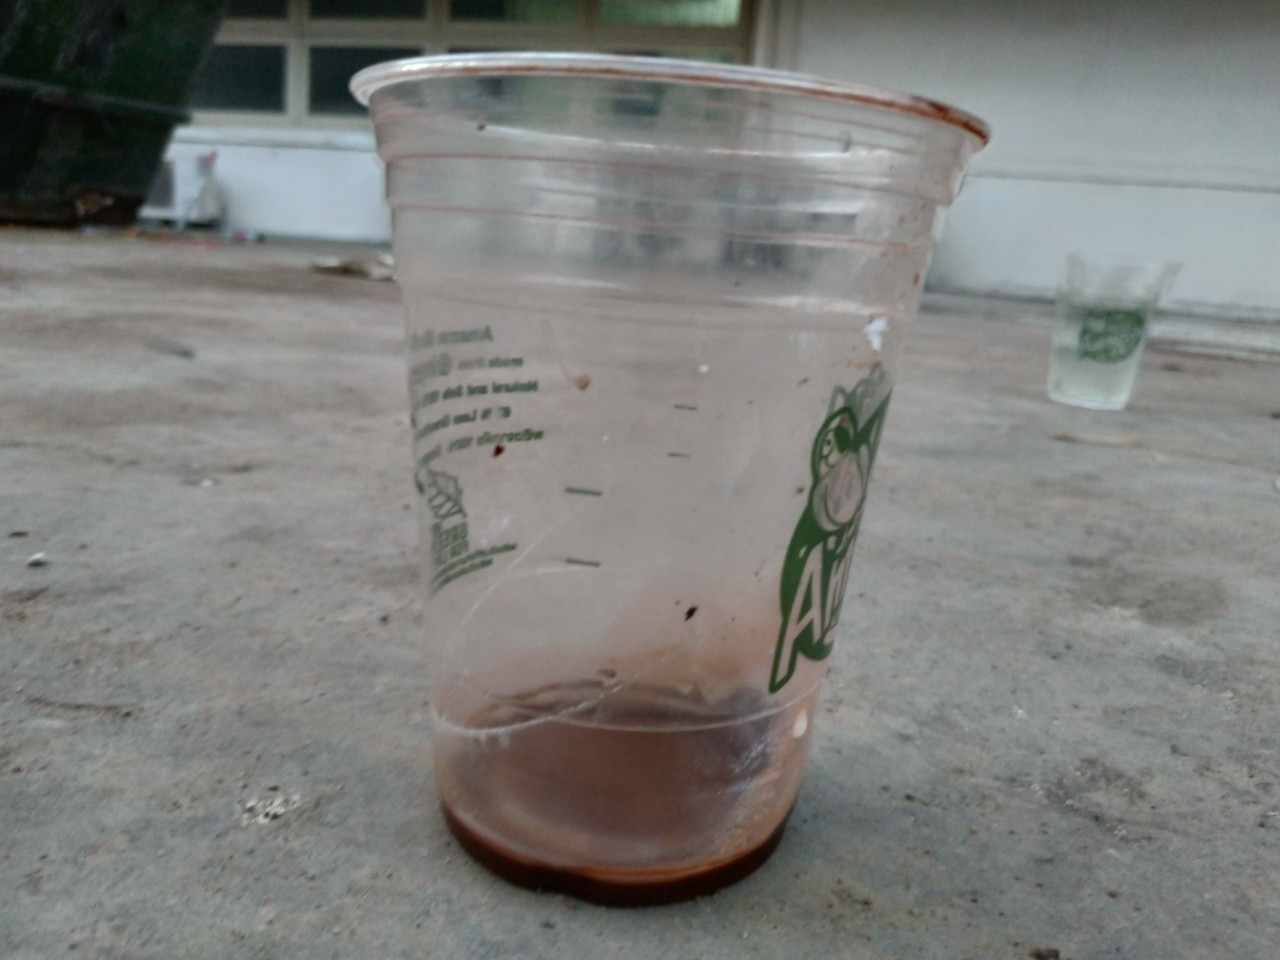PlasticCup: (343, 47, 998, 908)
